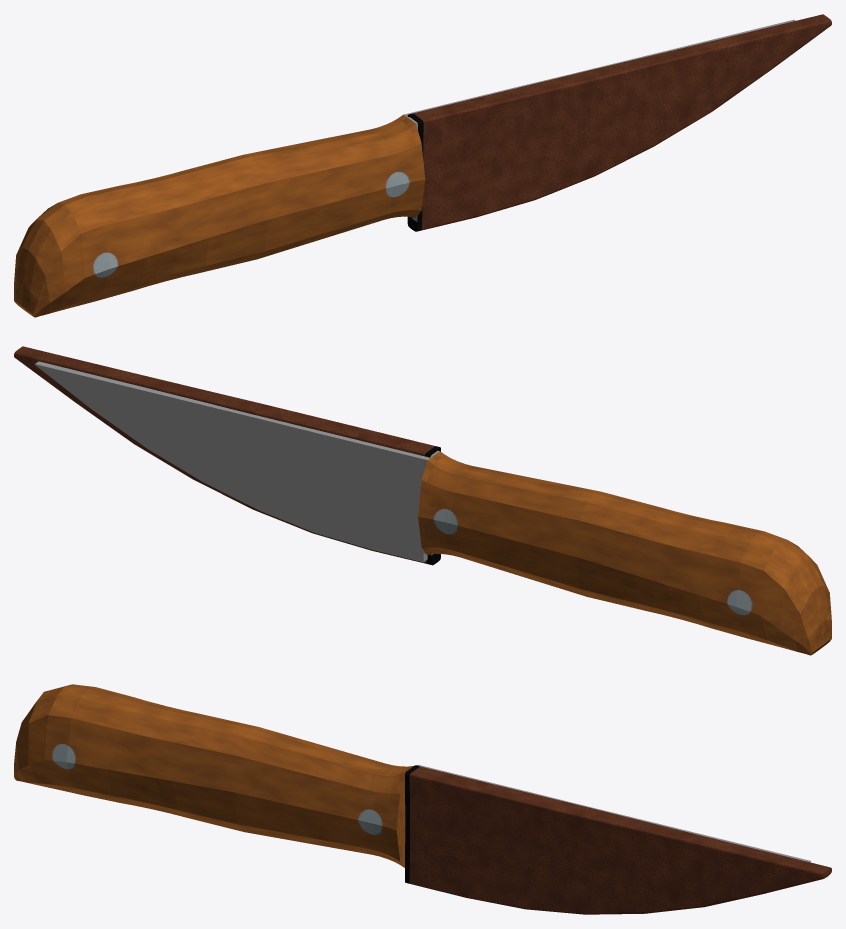
The model's file is Scott_W_GameKnife.fbx.
The picture shows the model from 3 angles, top to bottom: view 1: azimuth 30°, elevation 25°; view 2: azimuth 150°, elevation 25°; view 3: azimuth 330°, elevation 25°; orthographic projection.
Parts seen in each view (by area): view 1: Knife, Sheath; view 2: Knife, Sheath; view 3: Knife, Sheath.
Part boxes in pixels (x1,y1,x2,y2): Knife: (14,19,795,317); Sheath: (407,14,831,231); Knife: (35,361,831,655); Sheath: (14,346,440,565); Knife: (14,684,810,867); Sheath: (405,765,831,914).
Bounding box in the file's own units: 0.9699 × 0.0923 × 0.1289.
